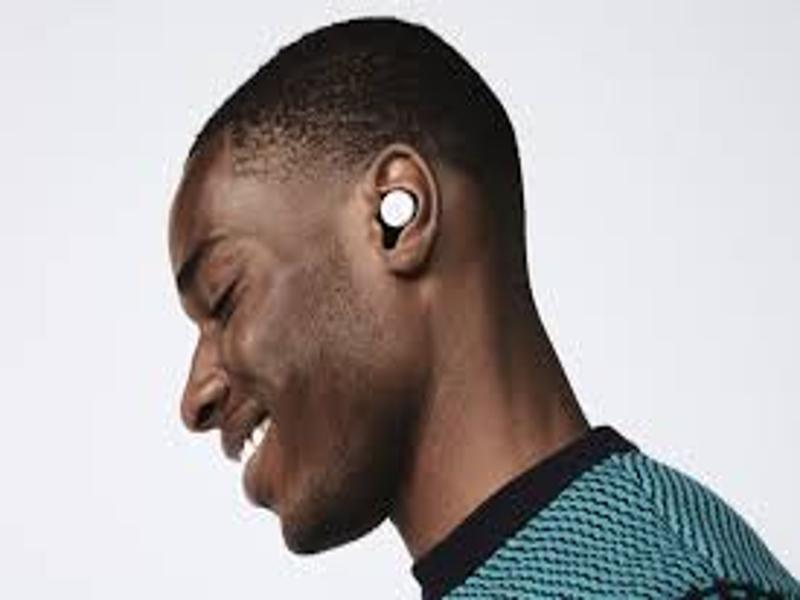headphone: (381, 186, 419, 238)
